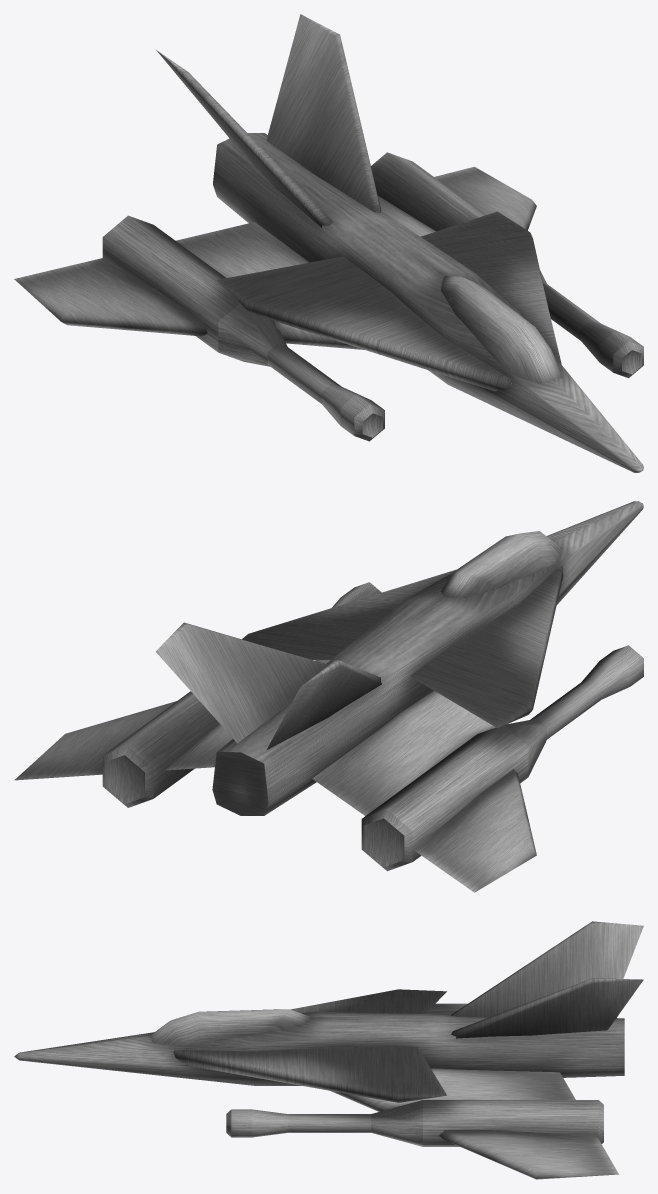
File: forma.obj
3 views of the same model, one above another, from view 1: azimuth 30°, elevation 25°; view 2: azimuth 150°, elevation 25°; view 3: azimuth 270°, elevation 25° (orthographic). The views are drawn at different scales.
Visible parts, largest first — view 1: object_1, object_9, object_5, object_2, object_7, object_4, object_10, object_6, object_3, object_8; view 2: object_1, object_2, object_5, object_9, object_7, object_4, object_10, object_3, object_6, object_8; view 3: object_1, object_4, object_3, object_10, object_8, object_7, object_6, object_9.
Part boxes in pixels (x1,y1,x2,y2): object_1: (213,133,643,472); object_9: (217,256,511,391); object_5: (102,215,384,441); object_2: (14,222,364,349); object_7: (266,14,381,212); object_4: (371,152,643,378); object_10: (421,211,561,364); object_6: (441,276,562,383); object_3: (378,166,536,236); object_8: (156,50,333,227); object_1: (212,501,643,815); object_2: (312,690,536,892); object_5: (361,645,643,871); object_9: (410,566,563,728); object_7: (155,622,328,743); object_4: (102,582,381,807); object_10: (242,569,456,659); object_3: (14,660,330,780); object_6: (441,531,562,597); object_8: (266,660,381,750); object_1: (14,1011,624,1085); object_4: (226,1100,603,1146); object_3: (331,1068,618,1179); object_10: (173,1046,446,1102); object_8: (451,921,643,1017); object_7: (451,978,643,1038); object_6: (150,1009,313,1045); object_9: (290,989,446,1013).
Size of the model in its own units: 0.6632 by 0.2599 by 1.
1 material, 1 textured.
